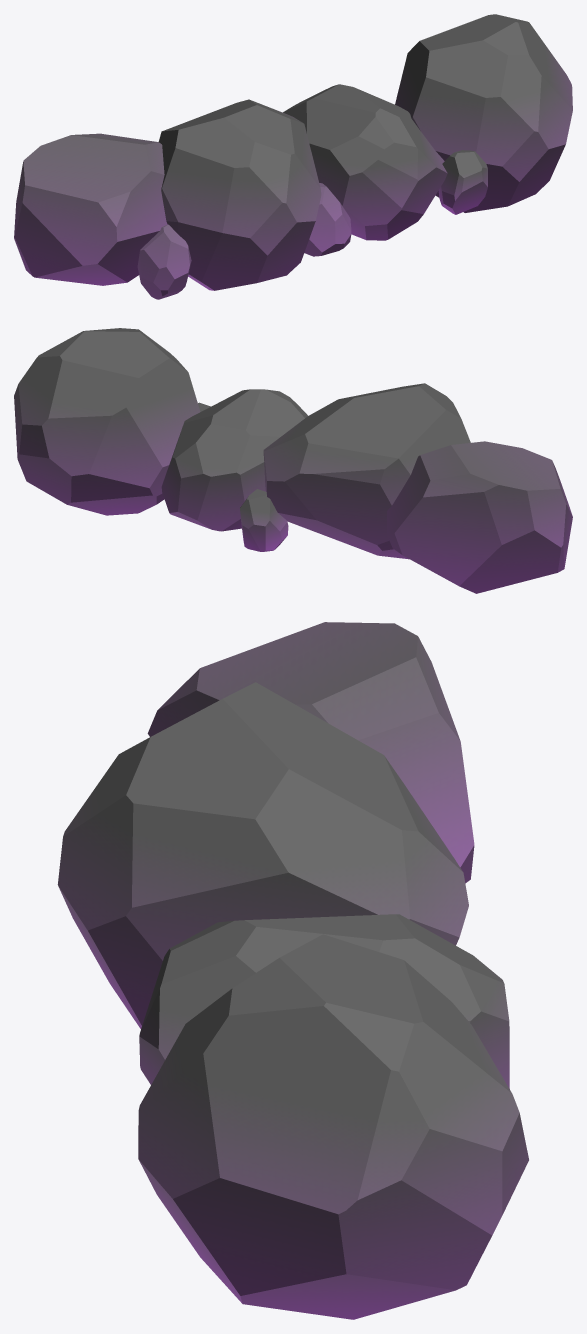
Rendered from rock5 1.fbx.
3 views of the same model, one above another, from view 1: azimuth 30°, elevation 25°; view 2: azimuth 150°, elevation 25°; view 3: azimuth 270°, elevation 25° (orthographic). The views are drawn at different scales.
Parts seen in each view (by area): view 1: Sphere.055, Sphere.056, Sphere.057, Sphere.054, Sphere.060, Sphere.061, Sphere.059; view 2: Sphere.056, Sphere.057, Sphere.055, Sphere.054, Sphere.058; view 3: Sphere.056, Sphere.055, Sphere.057, Sphere.054.
Part boxes in pixels (bbox=[...]): Sphere.055: bbox=[158, 99, 321, 290]; Sphere.056: bbox=[395, 14, 572, 212]; Sphere.057: bbox=[14, 133, 167, 285]; Sphere.054: bbox=[283, 84, 447, 240]; Sphere.060: bbox=[137, 224, 191, 299]; Sphere.061: bbox=[438, 150, 487, 214]; Sphere.059: bbox=[304, 183, 351, 256]; Sphere.056: bbox=[14, 328, 200, 515]; Sphere.057: bbox=[387, 441, 572, 593]; Sphere.055: bbox=[263, 383, 470, 559]; Sphere.054: bbox=[161, 389, 307, 531]; Sphere.058: bbox=[240, 489, 288, 551]; Sphere.056: bbox=[138, 934, 528, 1319]; Sphere.055: bbox=[57, 682, 468, 1028]; Sphere.057: bbox=[147, 622, 474, 883]; Sphere.054: bbox=[139, 914, 509, 1088].
Bounding box in the file's own units: 433 × 132 × 164.
